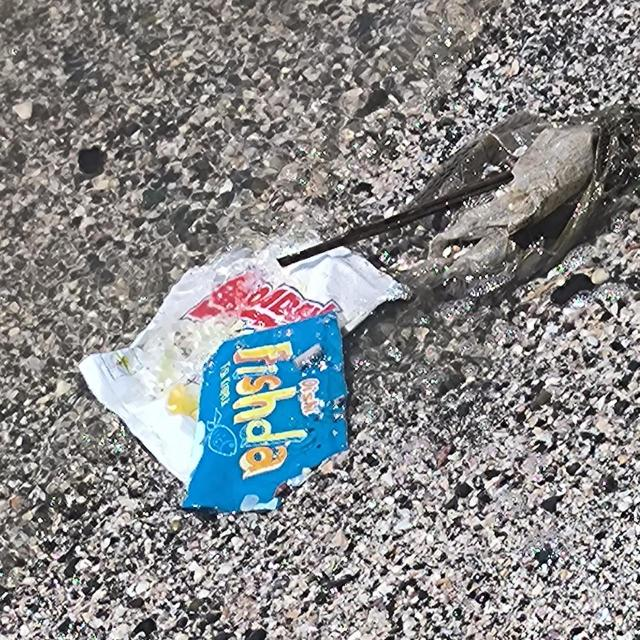plastic_waste: (76, 222, 412, 511)
